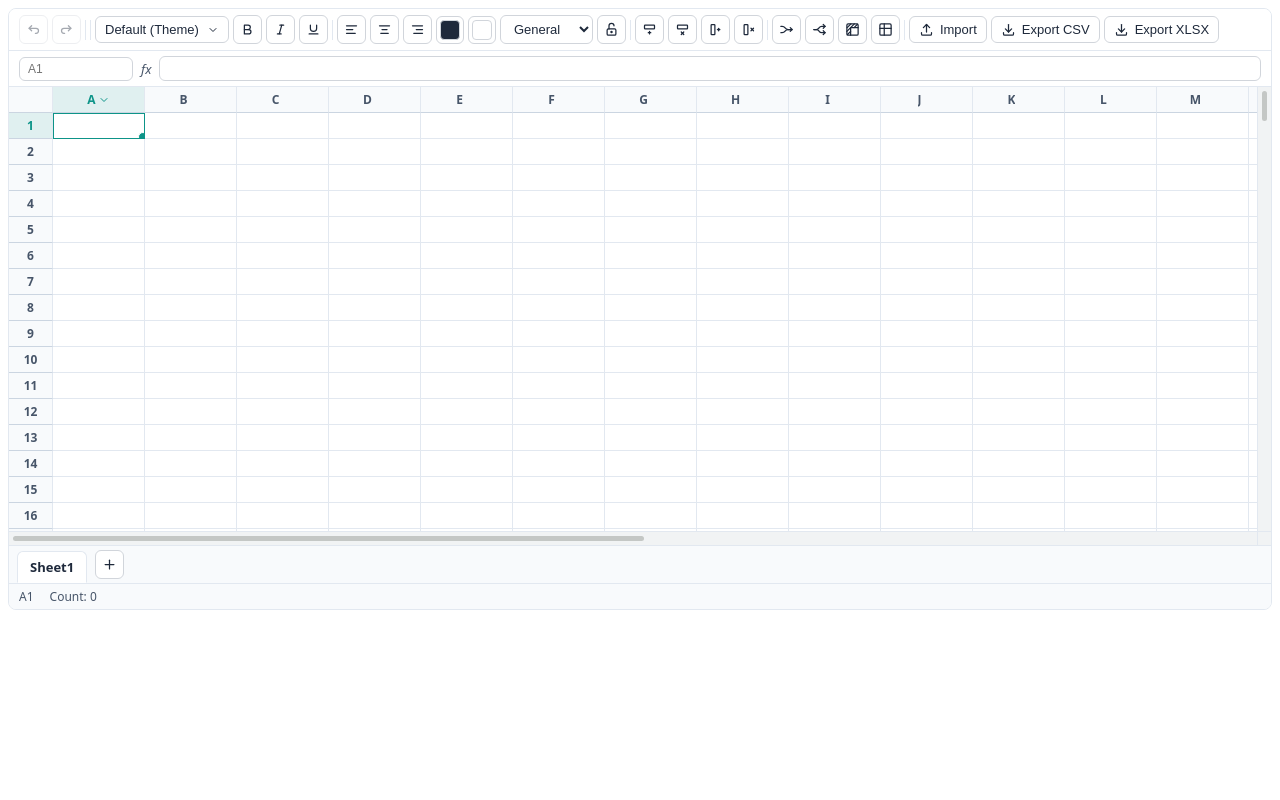
Test case: the formula bar › the name box jumps the selection to a typed reference
This screenshot has width=1280, height=800.
Type "C3" into the field named "Name box" at (76, 68), box [19,56,133,80]
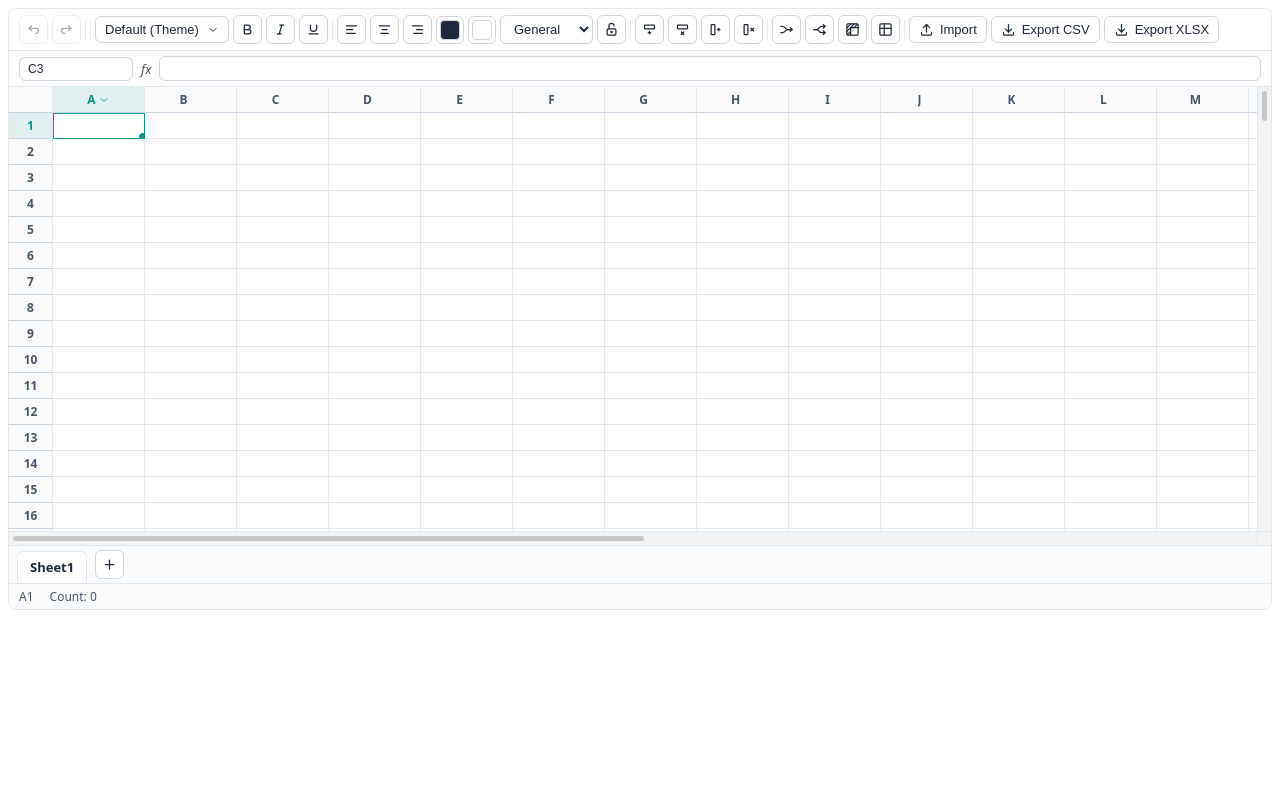
Press Enter in the field named "Name box", box [19,56,133,80]
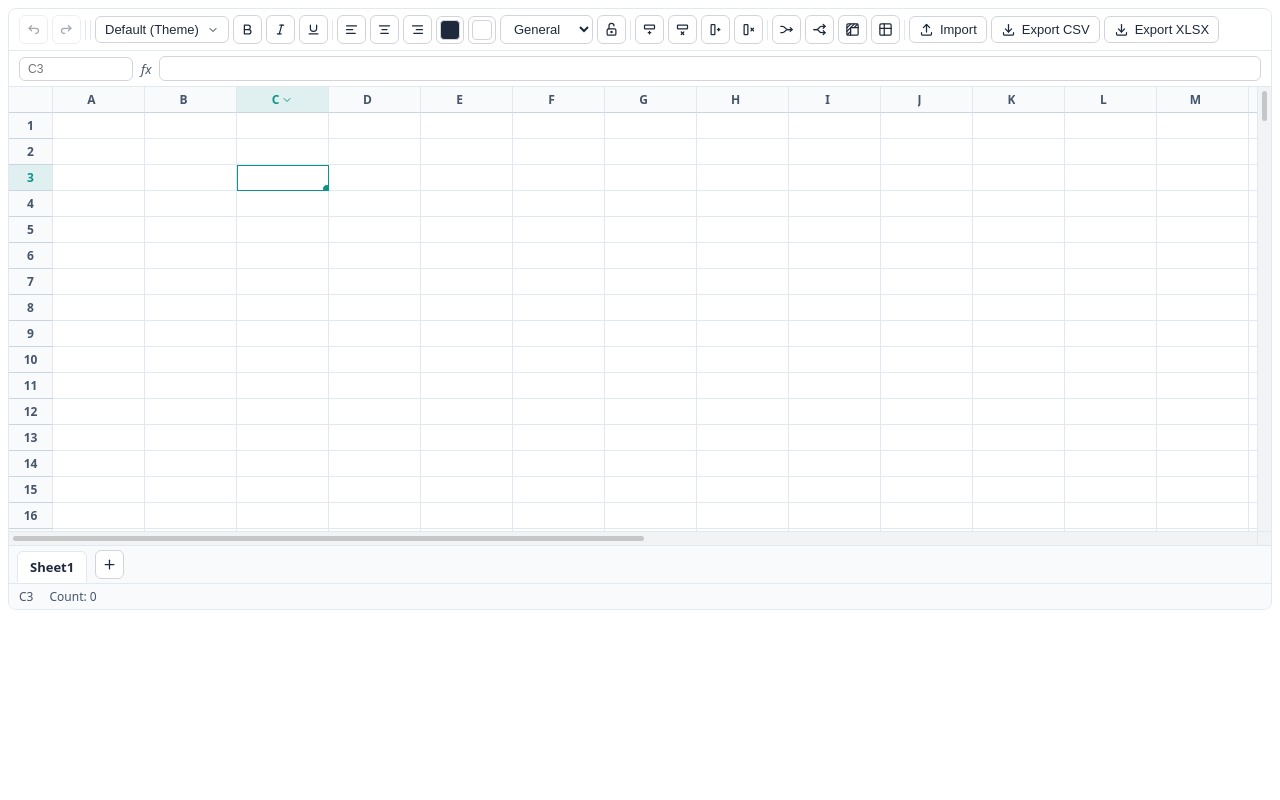
Expected: the cell with class "a1s-active" is shown, [237,165,329,191]
